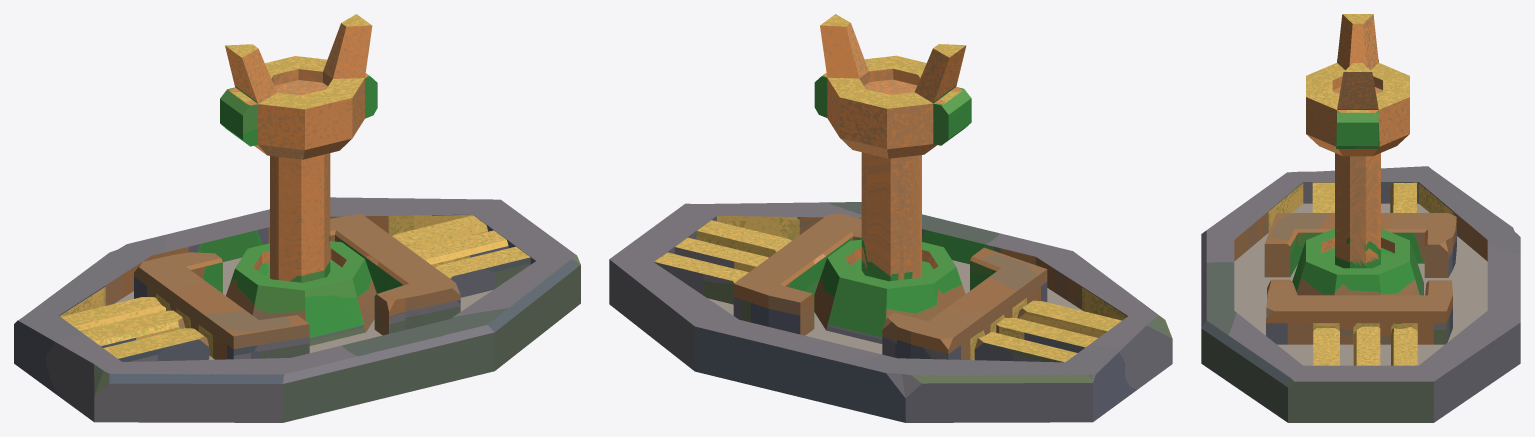
The model's file is magic table.fbx.
3 renders of one model, left to right at view 1: azimuth 30°, elevation 25°; view 2: azimuth 150°, elevation 25°; view 3: azimuth 270°, elevation 25°, orthographic. The views are drawn at different scales.
Parts seen in each view (by area): view 1: magic table_uv; view 2: magic table_uv; view 3: magic table_uv.
Part boxes in pixels (x1=…): magic table_uv: x1=14, y1=14, x2=580, y2=422; magic table_uv: x1=609, y1=14, x2=1172, y2=422; magic table_uv: x1=1201, y1=14, x2=1520, y2=422.
Bounding box in the file's own units: 712 × 418 × 445.
1 material, 1 textured.
